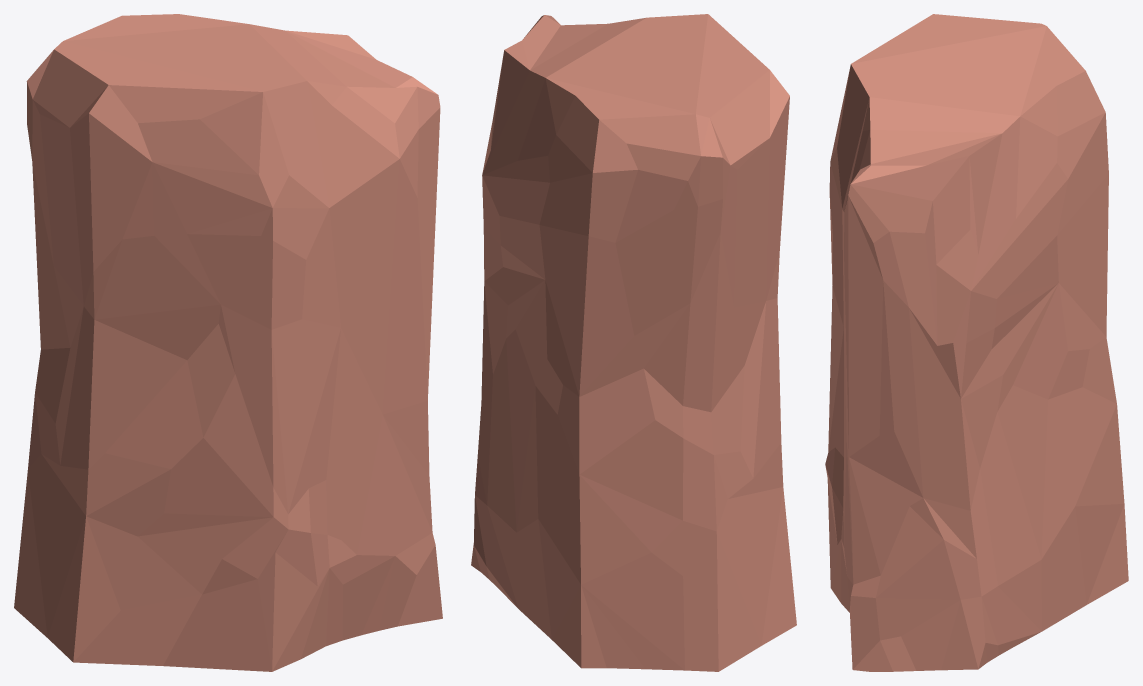
The model's file is Cliff_01.fbx.
The picture shows the model from 3 angles, left to right: view 1: azimuth 30°, elevation 25°; view 2: azimuth 150°, elevation 25°; view 3: azimuth 270°, elevation 25°; orthographic projection. The views are drawn at different scales.
Visible parts, largest first — view 1: Cliff_01; view 2: Cliff_01; view 3: Cliff_01.
Boxes of the visible parts, bbox=[...] form: Cliff_01: bbox=[14, 14, 442, 671]; Cliff_01: bbox=[471, 14, 796, 671]; Cliff_01: bbox=[825, 14, 1128, 671].
Bounding box in the file's own units: 138 × 232 × 121.
